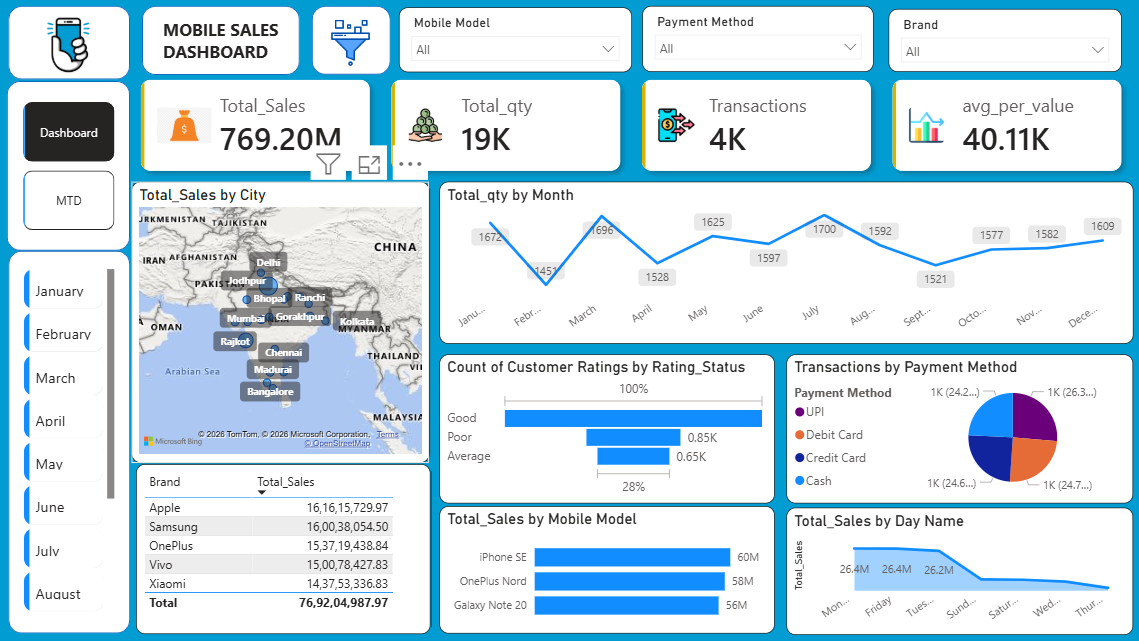

The dashboard page shown, as its layout file describes it:
{"tool":"powerbi","page":{"name":"Dashboard","canvas":[1280,720],"ordinal":0},"visuals":[{"type":"shape","box":[13.3,8.3,135,81.7],"z":0},{"type":"image","box":[25.4,11.1,109.8,79.5],"z":1000},{"type":"shape","box":[11.7,91.7,136.7,188.3],"z":2000},{"type":"shape","box":[12.7,279.9,135.2,424.7],"z":3000},{"type":"advancedSlicerVisual","fields":{"Values":["Custom_Calender.Date.Variation.Date Hierarchy.Month"]},"box":[25.4,294.3,111.3,397.7],"z":4000},{"type":"cardVisual","fields":{"Data":["Sales_Data.Total_Sales","Sales_Data.Total_qty","Sales_Data.Transactions","Sales_Data.avg_per_value"]},"box":[148.3,78.3,1113.3,125],"z":5000},{"type":"slicer","fields":{"Values":["Sales_Data.Mobile Model"]},"box":[446.7,10,258.3,71.7],"z":6000},{"type":"slicer","fields":{"Values":["Sales_Data.Payment Method"]},"box":[716.7,8.3,256.7,73.3],"z":7000},{"type":"slicer","fields":{"Values":["Sales_Data.Brand"]},"box":[990,11.7,258.3,70],"z":8000},{"type":"shape","box":[349.9,8,87.5,76.3],"z":9000},{"type":"image","box":[365.8,22.3,52.5,55.7],"z":10000},{"type":"shape","box":[161.7,8.3,175,76.7],"z":11000},{"type":"textbox","box":[180,16.7,140,60],"z":12000},{"type":"map","fields":{"Category":["Sales_Data.City"],"Size":["Sales_Data.Total_Sales"]},"box":[153.3,203.3,330,311.7],"z":13000},{"type":"lineChart","fields":{"Y":["Sales_Data.Total_qty"],"Category":["Custom_Calender.Date.Variation.Date Hierarchy.Month"]},"box":[491.7,205,770,180],"z":14000},{"type":"funnel","fields":{"Y":["CountNonNull(Sales_Data.Customer Ratings)"],"Category":["Sales_Data.Rating_Status"]},"box":[491.5,394.5,372.2,165.4],"z":15000},{"type":"pieChart","fields":{"Category":["Sales_Data.Payment Method"],"Y":["Sales_Data.Transactions"]},"box":[876.4,394.5,384.9,165.4],"z":16000},{"type":"clusteredBarChart","fields":{"Category":["Sales_Data.Mobile Model"],"Y":["Sales_Data.Total_Sales"]},"box":[491.5,563.1,372.2,141.6],"z":17000},{"type":"stackedAreaChart","fields":{"Y":["Sales_Data.Total_Sales"],"Category":["Custom_Calender.Day Name"]},"box":[876.4,564.7,384.9,141.6],"z":18000},{"type":"tableEx","fields":{"Values":["Sales_Data.Brand","Sales_Data.Total_Sales"]},"box":[155,516.7,326.7,188.3],"z":19000},{"type":"pageNavigator","box":[30,115,101.7,143.3],"z":20000}]}

Visuals, with their boxes in screenshot pixels (x1, y1, x2, y2), scaled from the page's 1280x720 canvas onto the 1139x641 screenshot:
shape: [x1=12, y1=7, x2=132, y2=80]
image: [x1=23, y1=10, x2=120, y2=81]
shape: [x1=10, y1=82, x2=132, y2=249]
shape: [x1=11, y1=249, x2=132, y2=627]
advancedSlicerVisual - Custom_Calender.Date.Variation.Date Hierarchy.Month: [x1=23, y1=262, x2=122, y2=616]
cardVisual - Sales_Data.Total_Sales x Sales_Data.Total_qty: [x1=132, y1=70, x2=1123, y2=181]
slicer - Sales_Data.Mobile Model: [x1=397, y1=9, x2=627, y2=73]
slicer - Sales_Data.Payment Method: [x1=638, y1=7, x2=866, y2=73]
slicer - Sales_Data.Brand: [x1=881, y1=10, x2=1111, y2=73]
shape: [x1=311, y1=7, x2=389, y2=75]
image: [x1=326, y1=20, x2=372, y2=69]
shape: [x1=144, y1=7, x2=300, y2=76]
textbox: [x1=160, y1=15, x2=285, y2=68]
map - Sales_Data.City x Sales_Data.Total_Sales: [x1=136, y1=181, x2=430, y2=458]
lineChart - Sales_Data.Total_qty x Custom_Calender.Date.Variation.Date Hierarchy.Month: [x1=438, y1=183, x2=1123, y2=343]
funnel - CountNonNull(Sales_Data.Customer Ratings) x Sales_Data.Rating_Status: [x1=437, y1=351, x2=769, y2=498]
pieChart - Sales_Data.Payment Method x Sales_Data.Transactions: [x1=780, y1=351, x2=1122, y2=498]
clusteredBarChart - Sales_Data.Mobile Model x Sales_Data.Total_Sales: [x1=437, y1=501, x2=769, y2=627]
stackedAreaChart - Sales_Data.Total_Sales x Custom_Calender.Day Name: [x1=780, y1=503, x2=1122, y2=629]
tableEx - Sales_Data.Brand x Sales_Data.Total_Sales: [x1=138, y1=460, x2=429, y2=628]
pageNavigator: [x1=27, y1=102, x2=117, y2=230]
